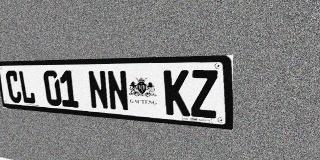0: (43, 70, 62, 106)
1: (58, 70, 79, 108)
C: (5, 71, 23, 103)
K: (164, 70, 190, 116)
L: (18, 70, 36, 104)
N: (106, 70, 130, 112), (87, 70, 109, 110)
Z: (190, 70, 218, 119)
